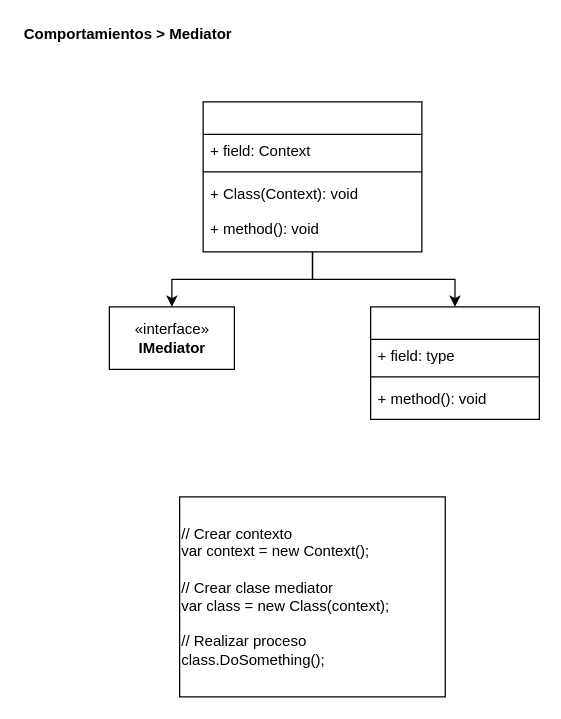
Some shapes in this 561 by 719 pixel diagram are drawn without their labels. Each missing label, with the box of its shape:
Class : IMediator: (202, 101, 422, 252)
Context: (369, 306, 539, 419)
